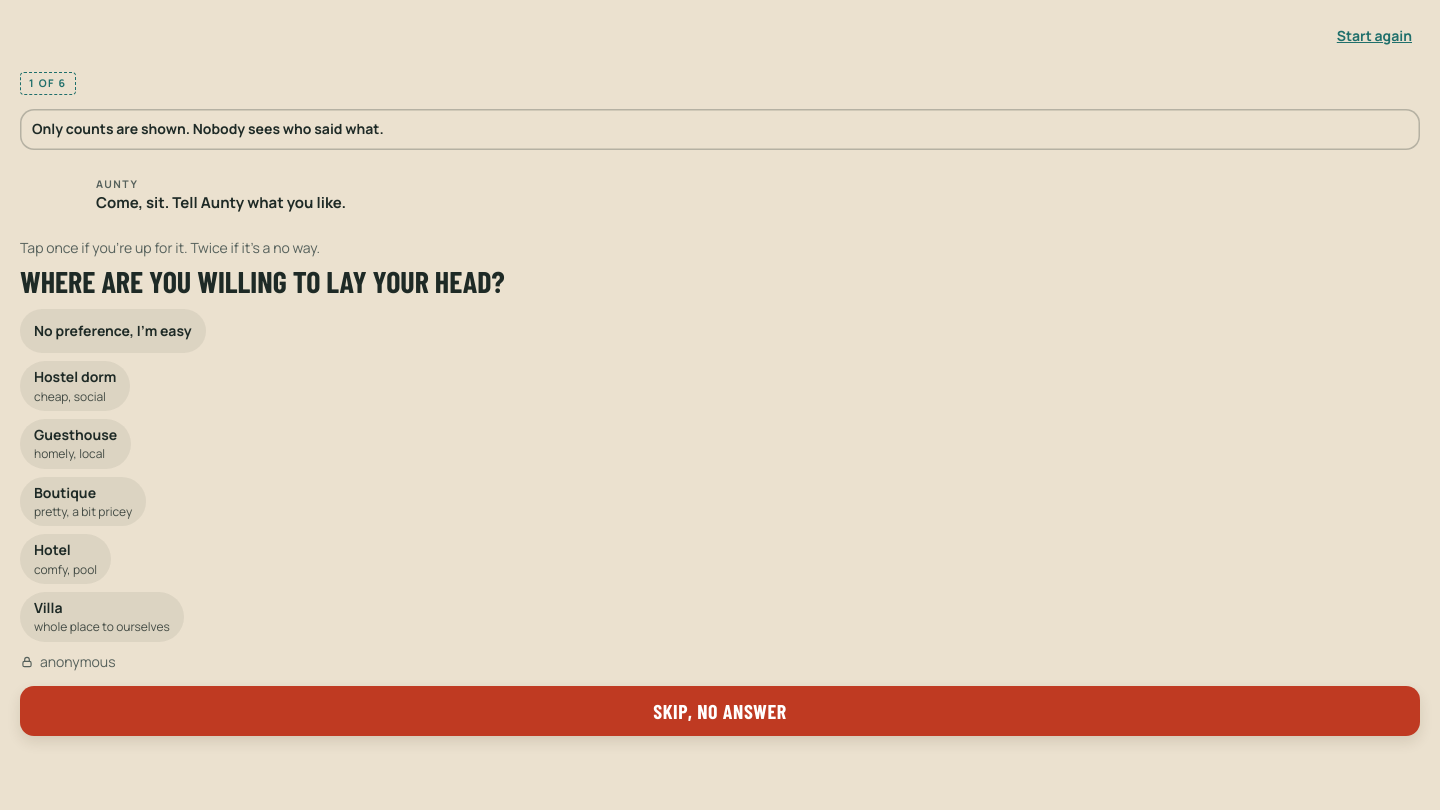
Scenario: Interview quiz › single-choice cards hold one answer
Click the button "Skip, no answer": (720, 711) [20, 686, 1420, 736]
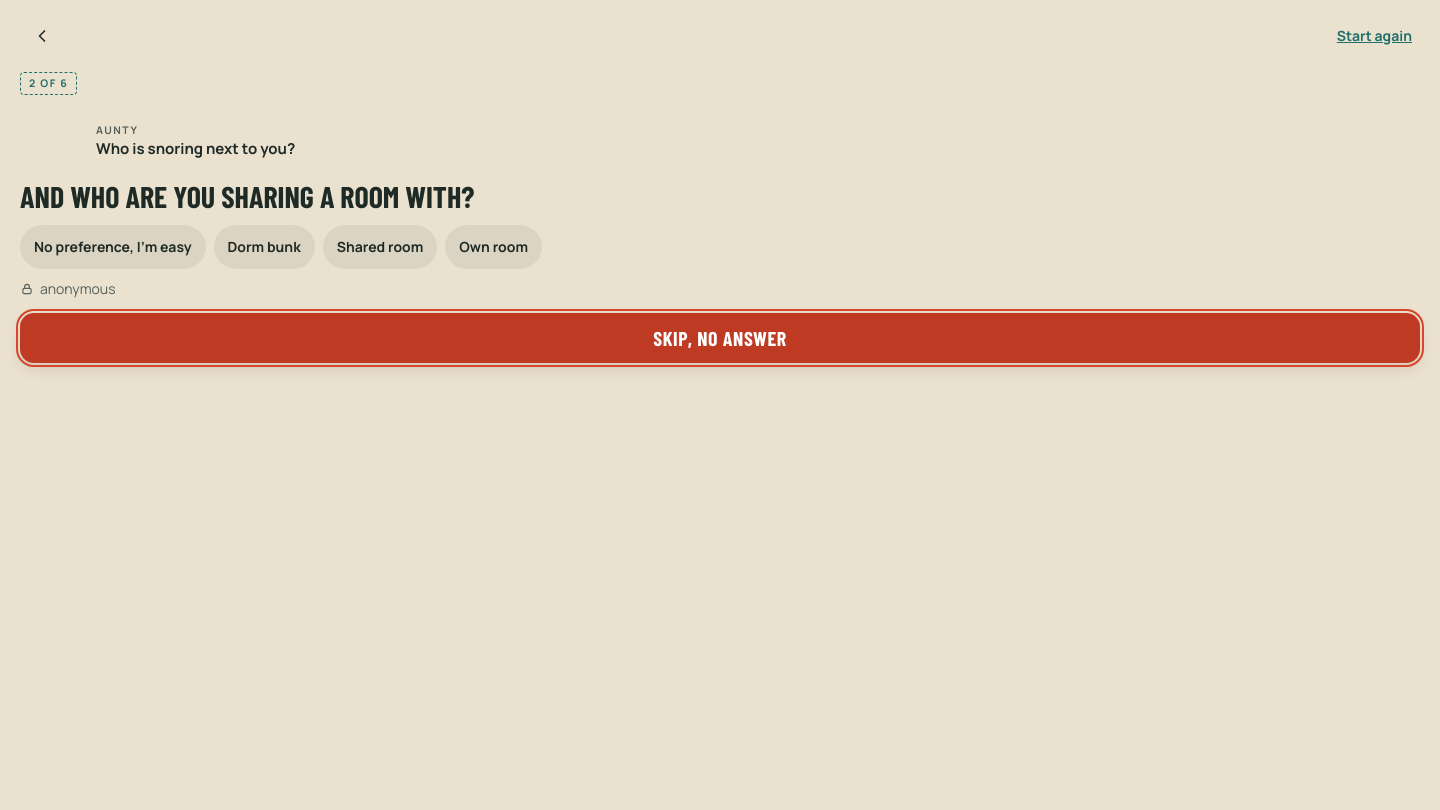
Click the button "Skip, no answer": (720, 338) [20, 313, 1420, 363]
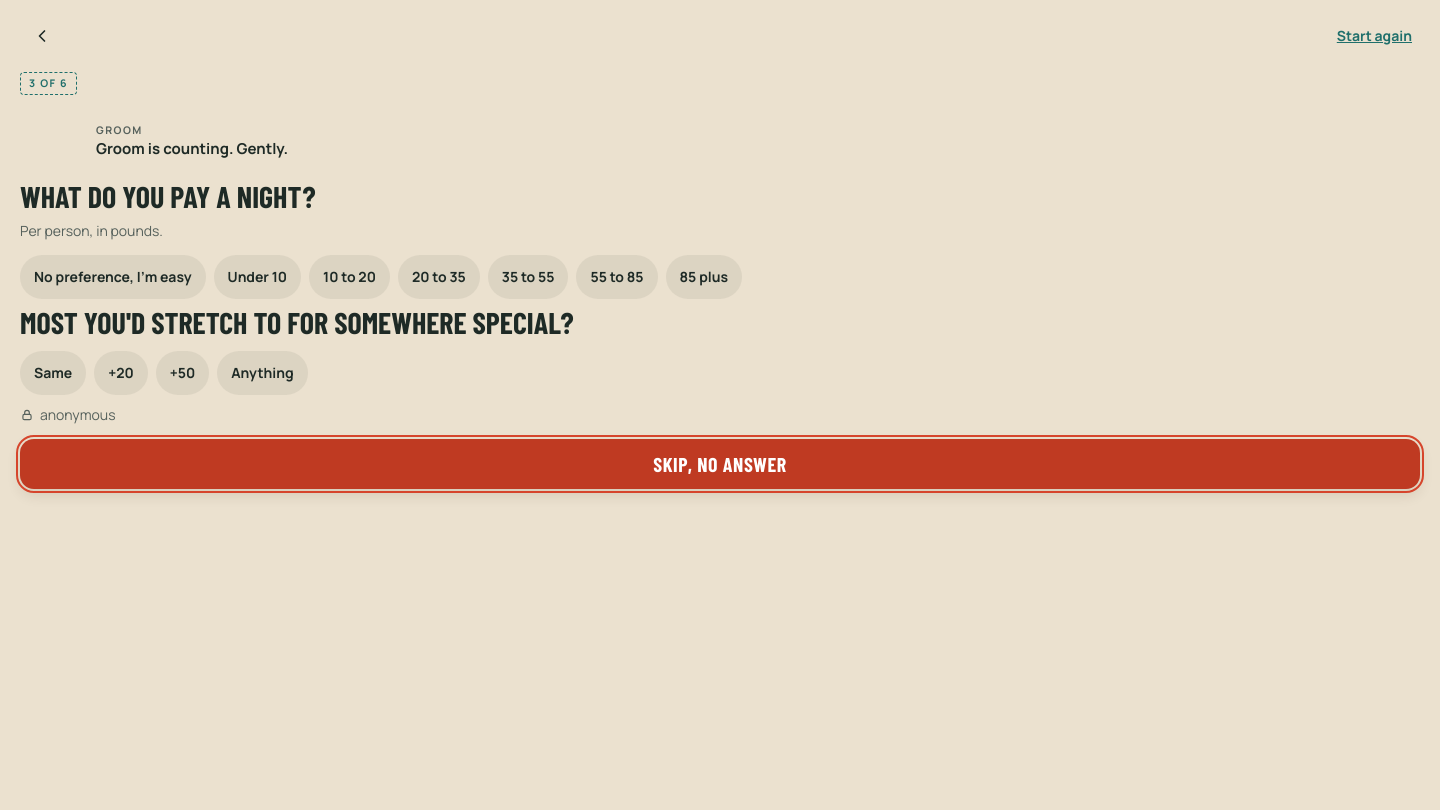
Click the button with aria-label "Under 10, not picked": (257, 277) [214, 255, 301, 299]
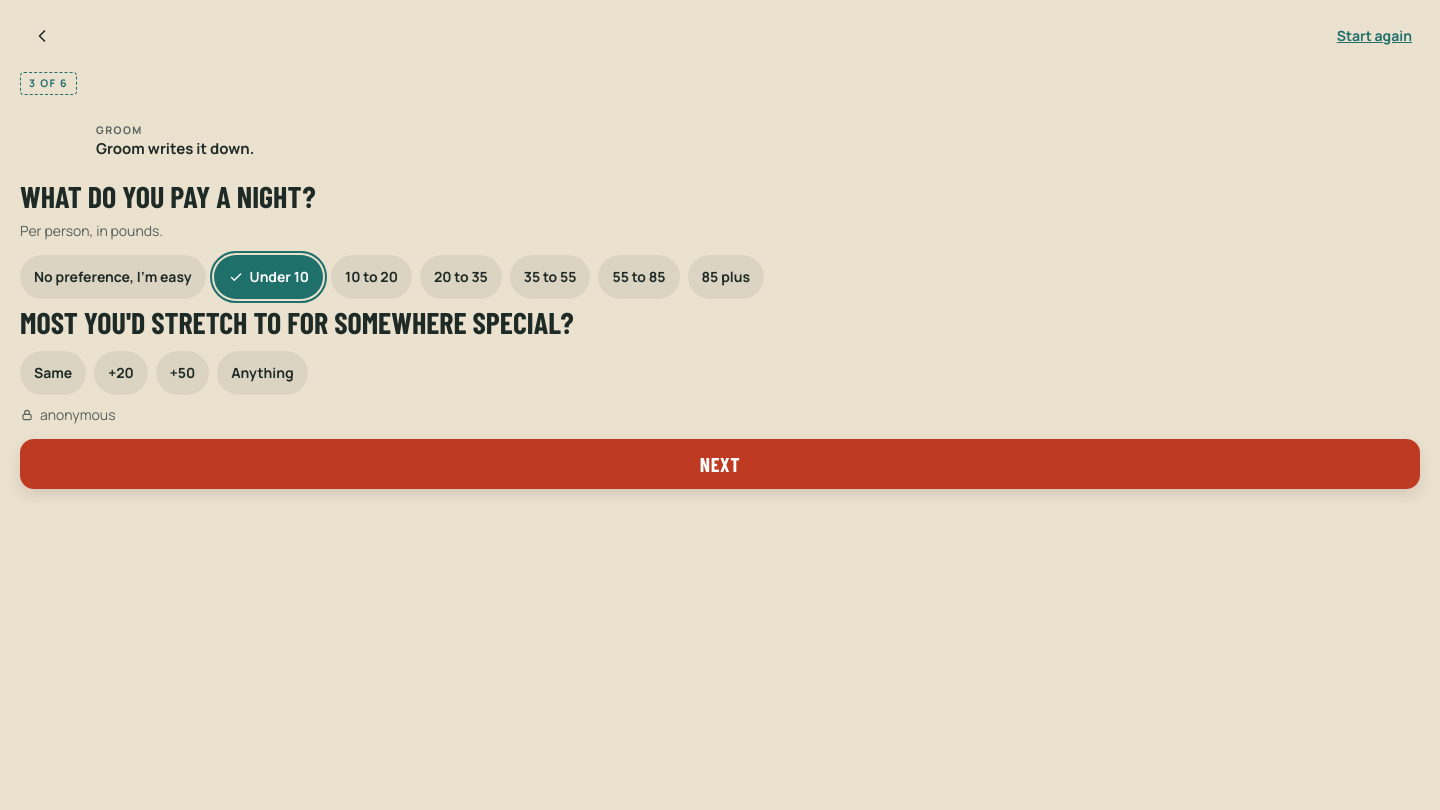
Click the button with aria-label "10 to 20, not picked": (372, 277) [331, 255, 412, 299]
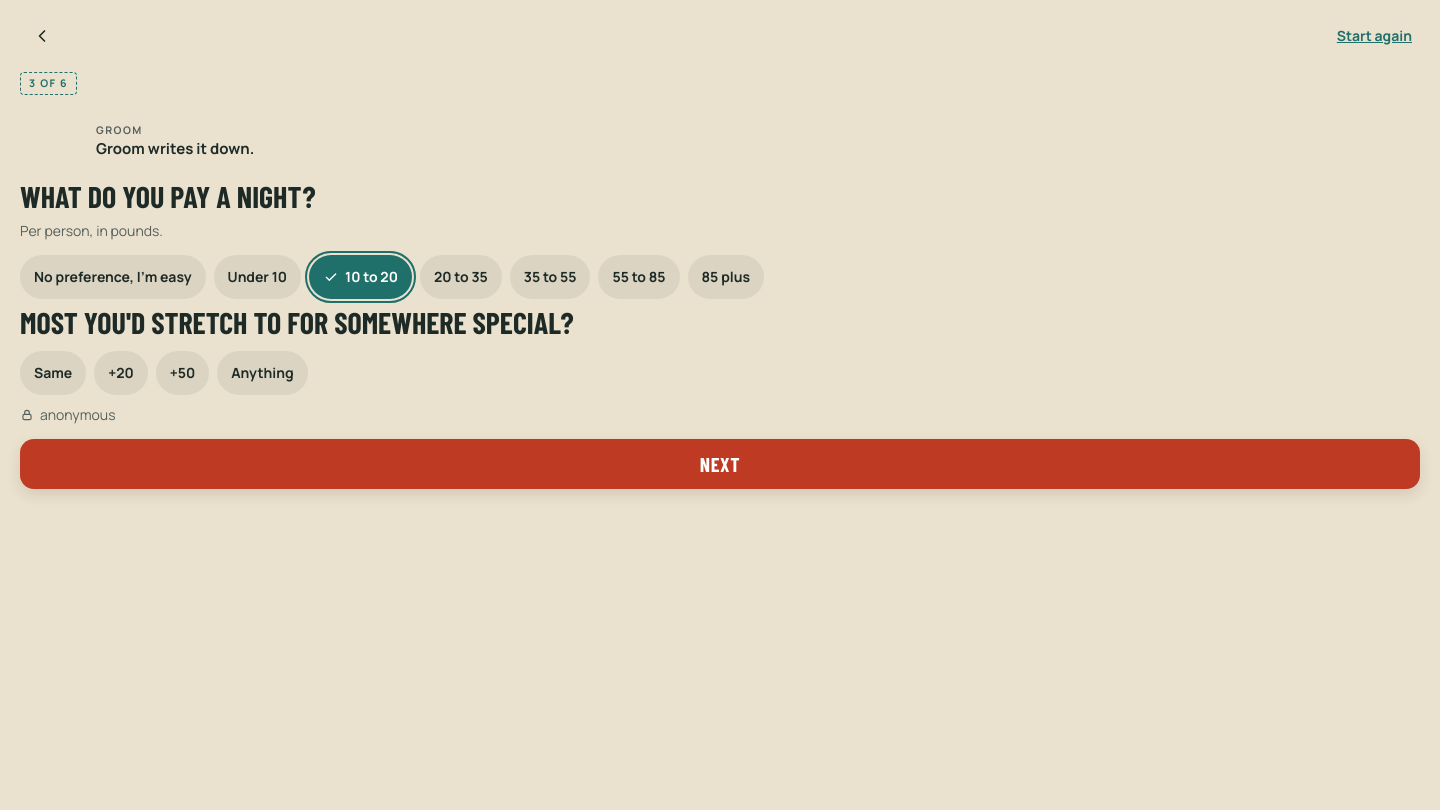
Expected: the button with aria-label "Under 10, not picked" is shown, [214, 255, 301, 299]
Expected: the button with aria-label "10 to 20, picked" is shown, [309, 255, 412, 299]
